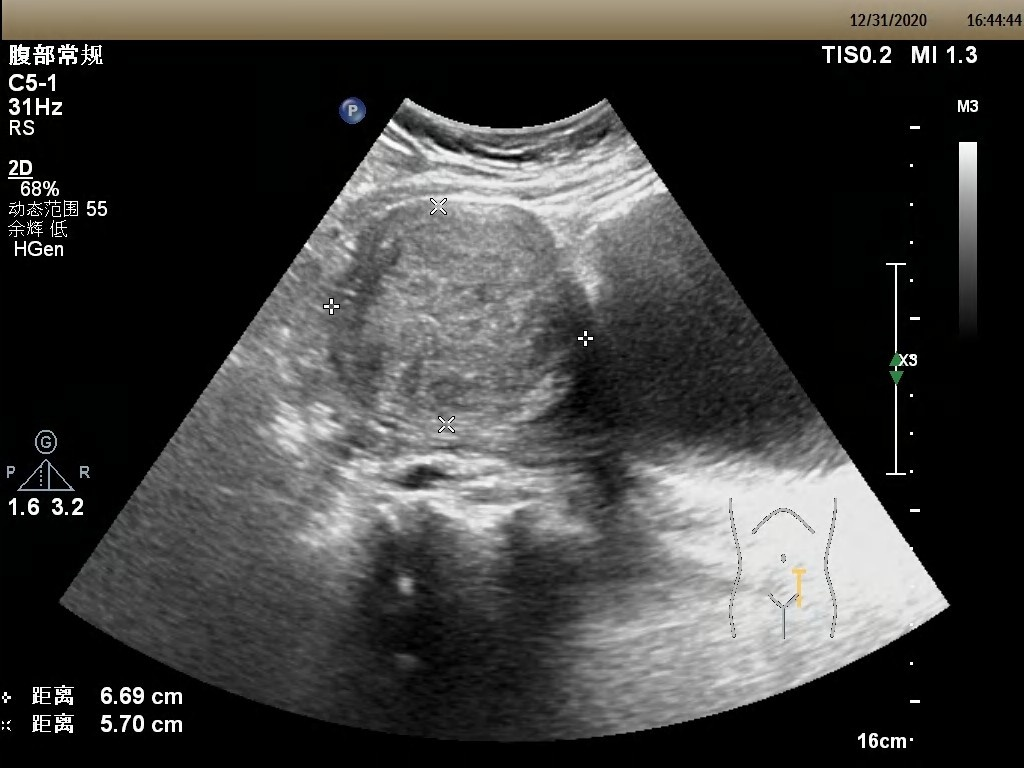肌瘤: (348, 209, 562, 423)
